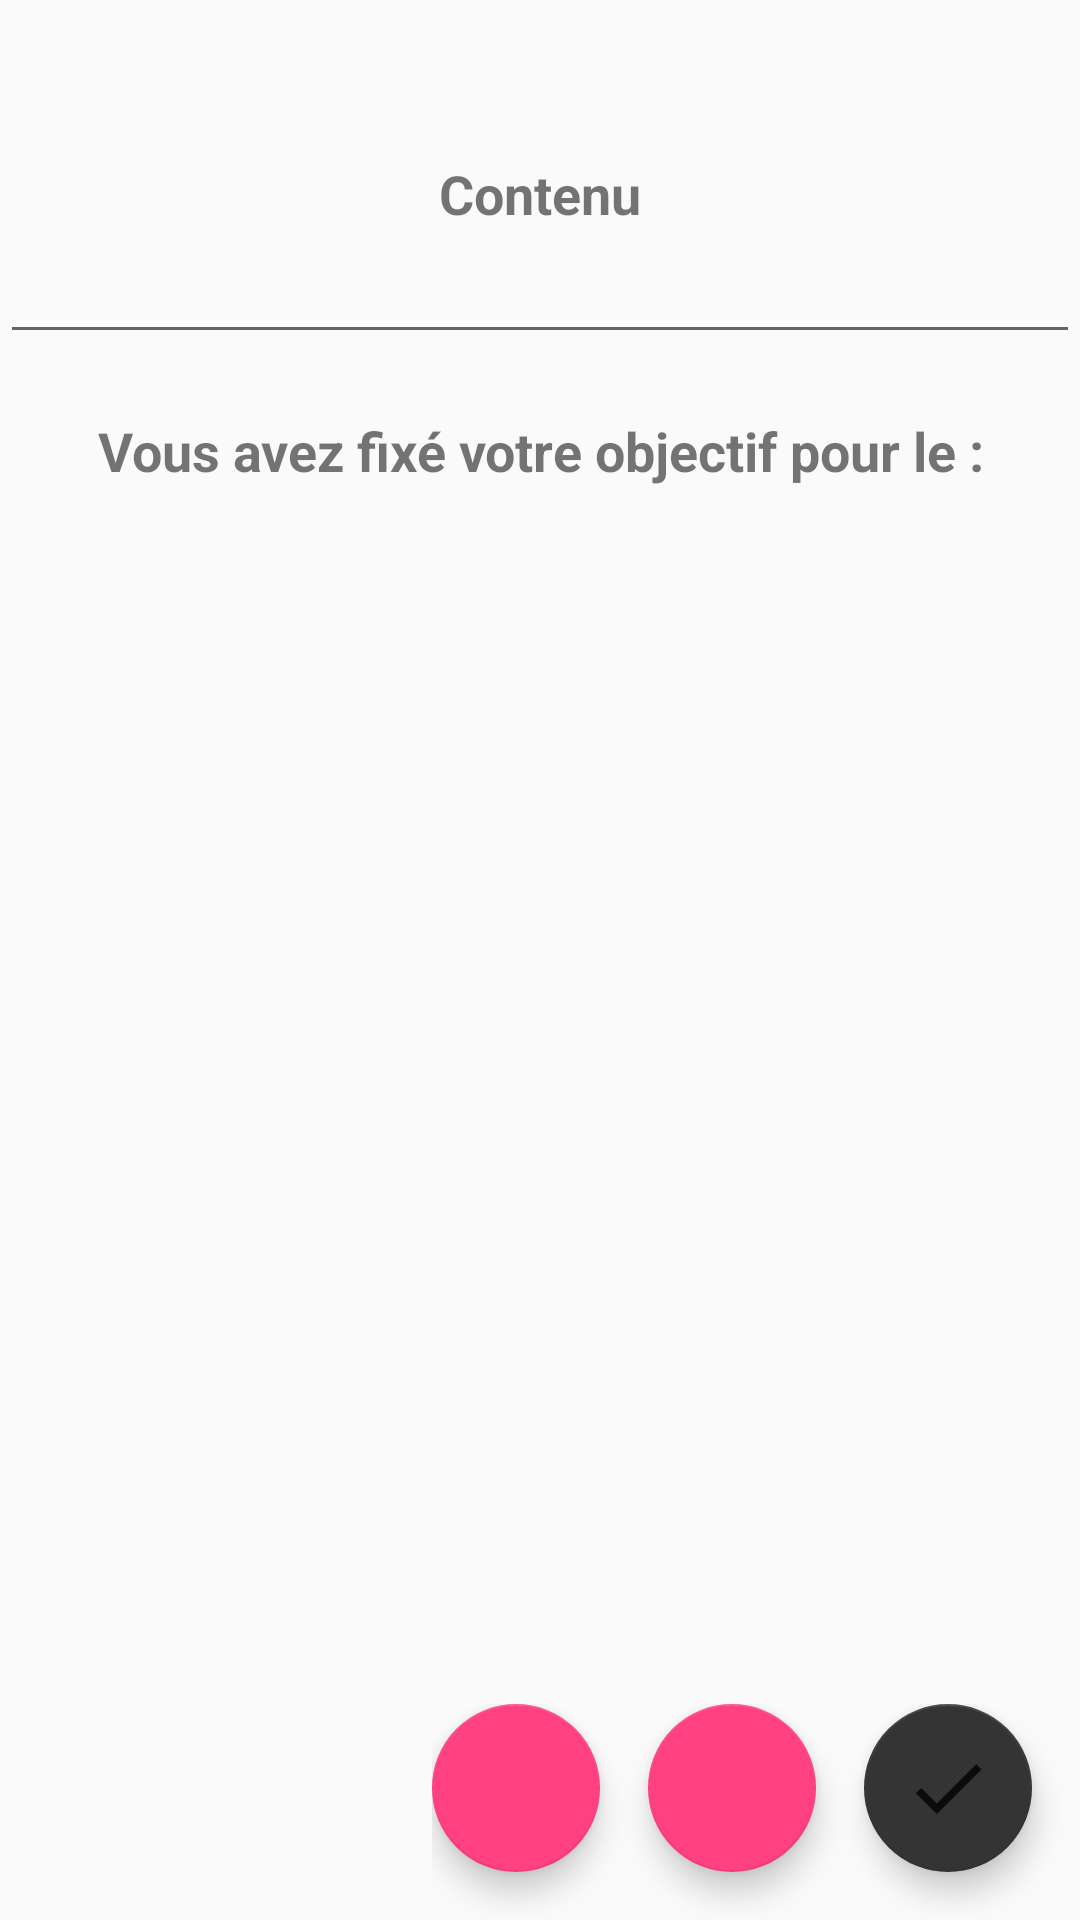

Where to tap for icons on this 1080w x 1920h app screen, as (x,y):
validate: (948,1788)
